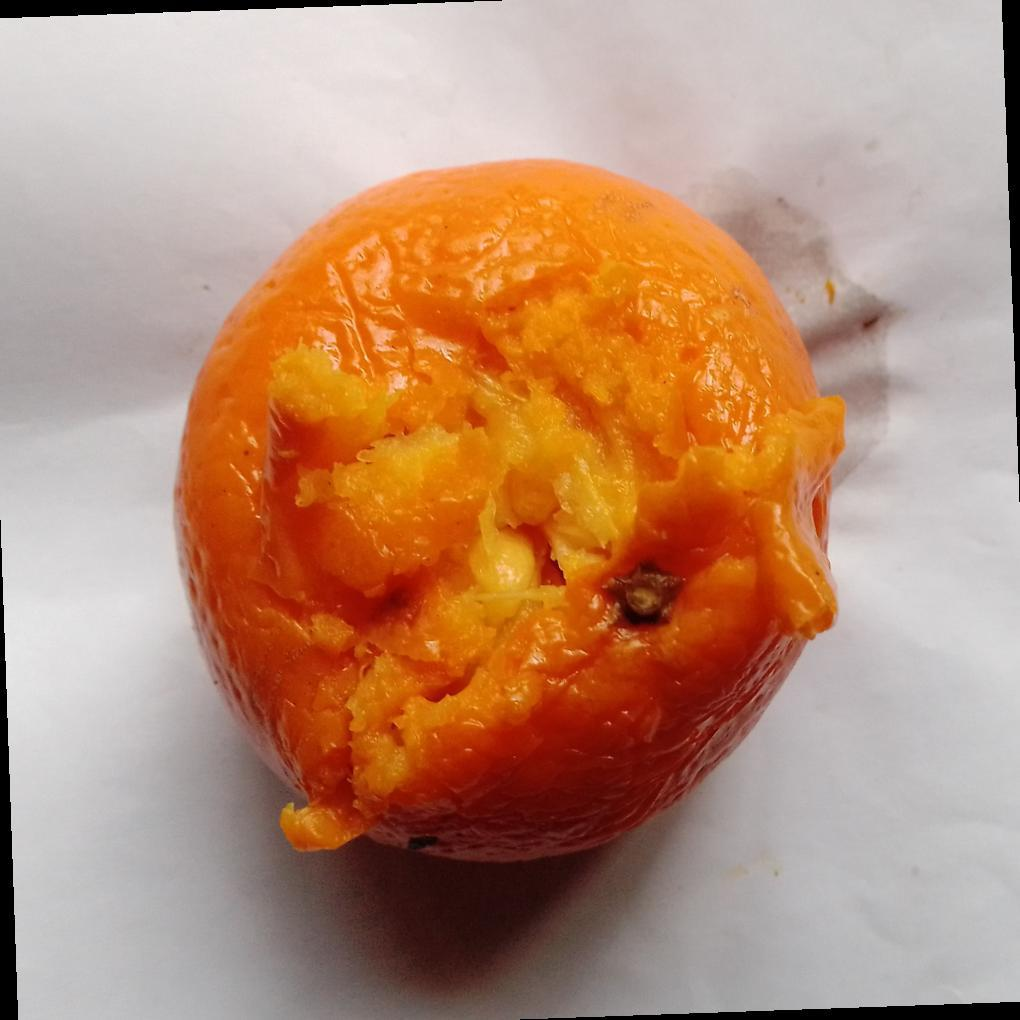FreshOrange: (172, 159, 846, 868)
